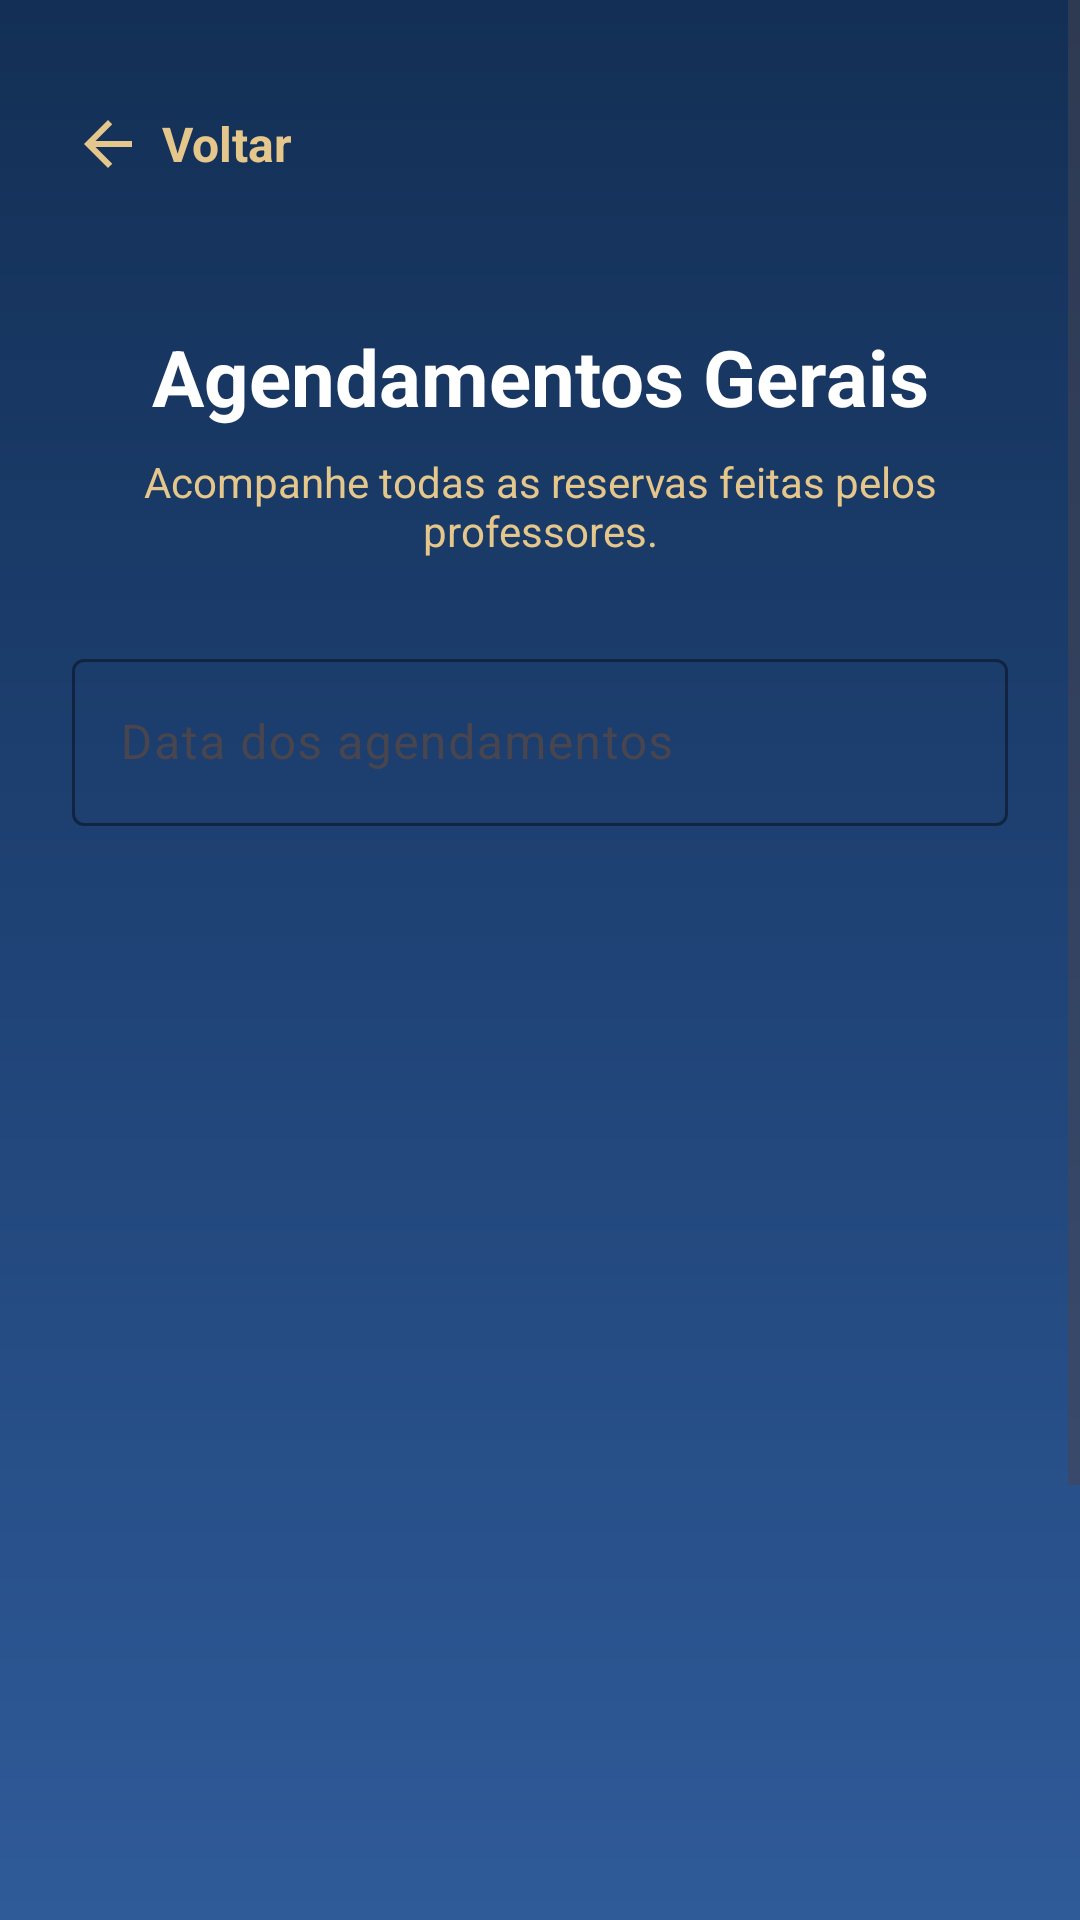

Screen size 1080×1920. Icon name, then its box in pixels as (left=x1, top=y1, right=x2, bottom=y2):
arrow back yarooms: (left=84, top=120, right=132, bottom=168)
